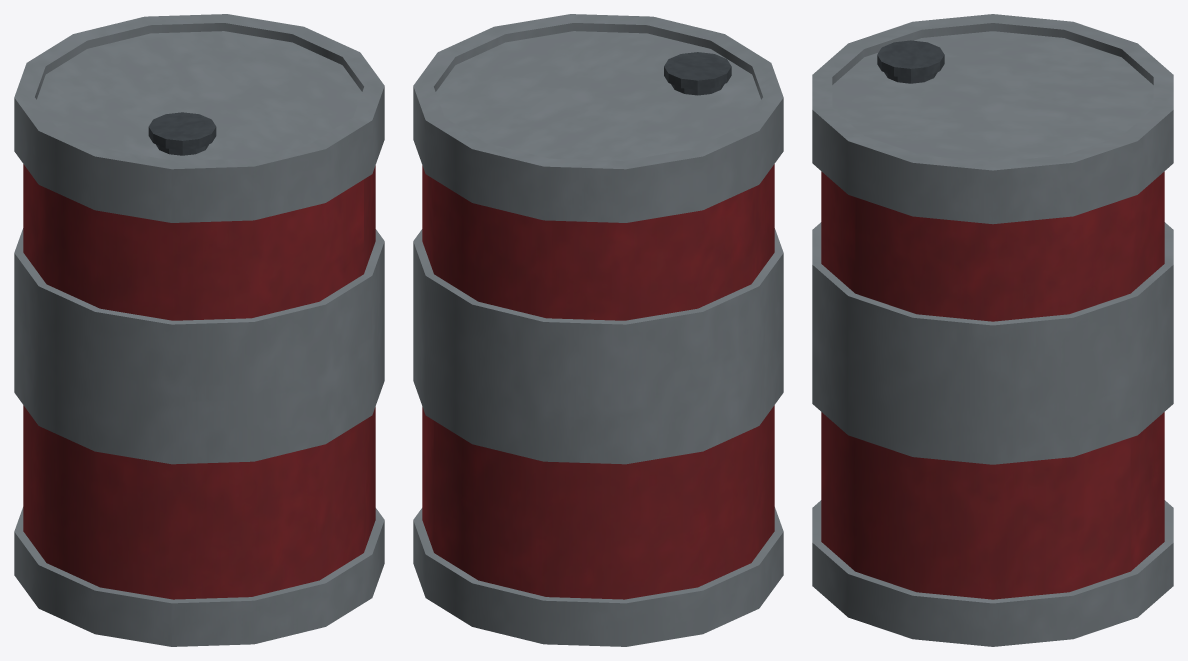
The model's file is barrel .fbx.
3 views of the same model, side by side, from view 1: azimuth 30°, elevation 25°; view 2: azimuth 150°, elevation 25°; view 3: azimuth 270°, elevation 25° (orthographic).
Parts seen in each view (by area): view 1: pCylinder4; view 2: pCylinder4; view 3: pCylinder4.
Part boxes in pixels (box(x1,y1,x2,y2)): pCylinder4: box(14, 14, 384, 646); pCylinder4: box(413, 14, 783, 646); pCylinder4: box(812, 14, 1173, 646).
Bounding box in the file's own units: 6.74 × 9.75 × 6.57.
